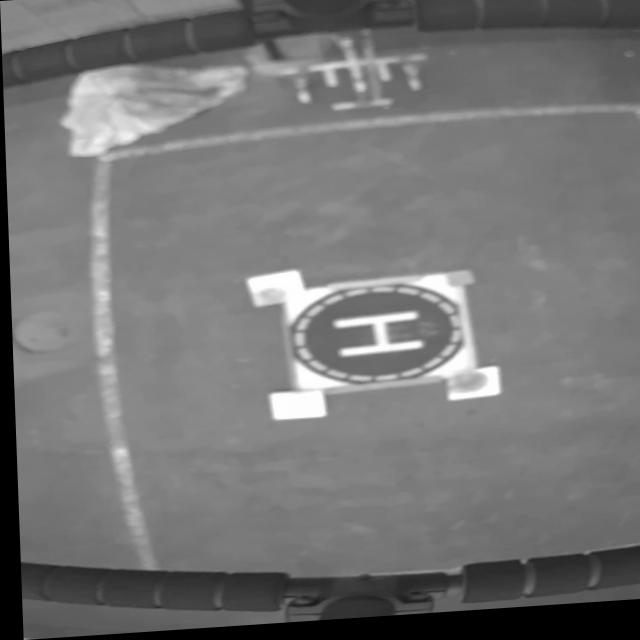Helipad: (330, 315, 424, 362)
